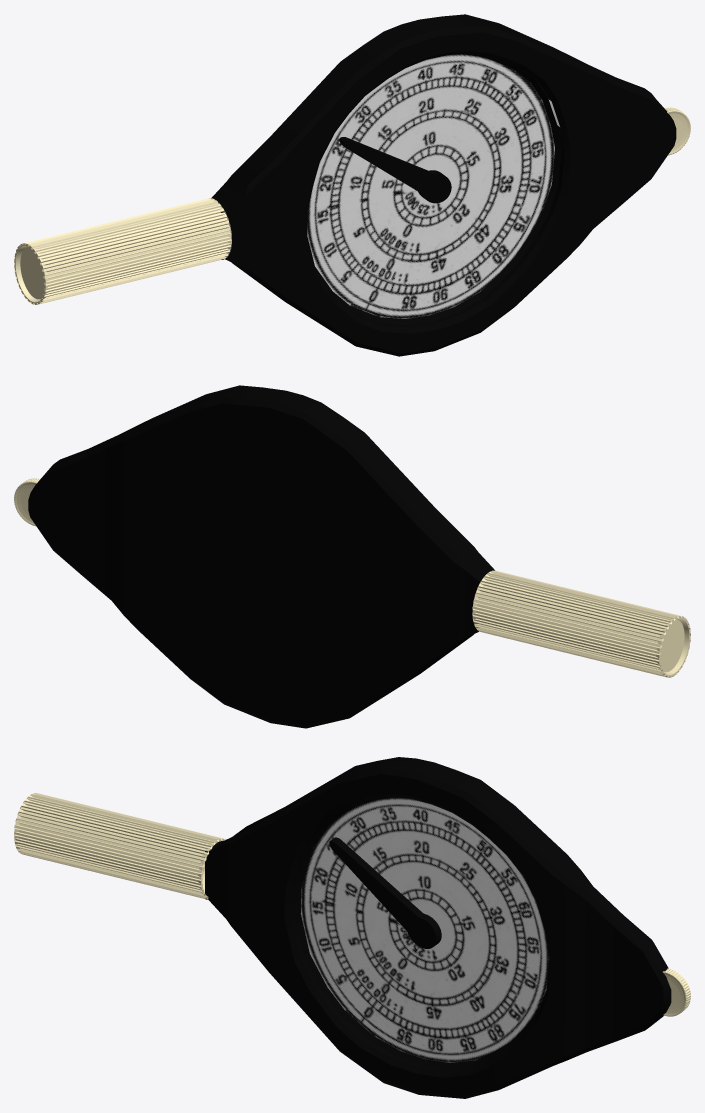
File: curvemetr.fbx
3 renders of one model, top to bottom at view 1: azimuth 30°, elevation 25°; view 2: azimuth 150°, elevation 25°; view 3: azimuth 330°, elevation 25°, orthographic.
Visible parts, largest first — view 1: Cube, Cylinder.001, Cylinder.002, Cylinder; view 2: Cube, Cylinder.001, Cylinder; view 3: Cube, Cylinder.001, Cylinder.002, Cylinder.
Boxes of the visible parts, bbox=[...] form: Cube: bbox=[211, 14, 676, 356]; Cylinder.001: bbox=[14, 198, 231, 304]; Cylinder.002: bbox=[339, 137, 451, 203]; Cylinder: bbox=[664, 107, 690, 155]; Cube: bbox=[28, 385, 494, 728]; Cylinder.001: bbox=[472, 570, 690, 677]; Cylinder: bbox=[14, 478, 39, 526]; Cube: bbox=[205, 757, 671, 1098]; Cylinder.001: bbox=[14, 793, 225, 899]; Cylinder.002: bbox=[329, 837, 441, 948]; Cylinder: bbox=[662, 968, 690, 1016].
Size of the model in its own units: 504 by 234 by 41.79.
